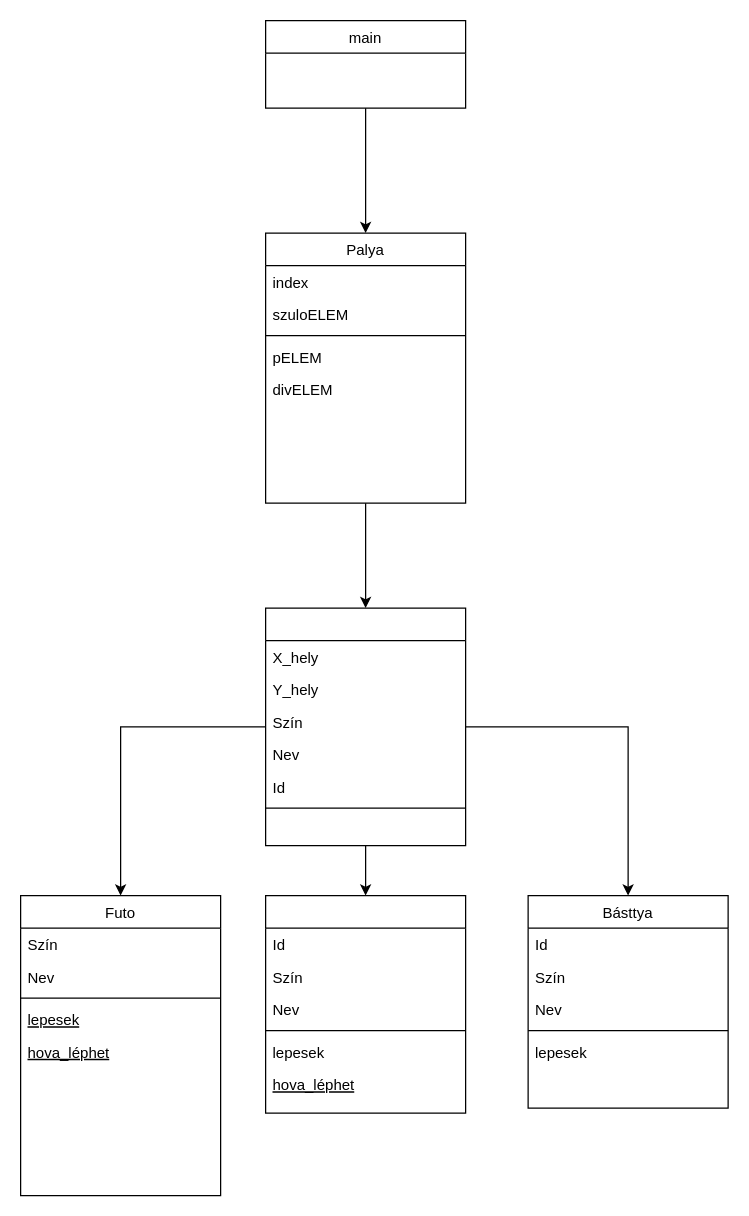
This 749x1216 diagram has some shape labels left out. The shapes that lost their labels are listed below. From the top down, each one's box as (x1, y1, x2, y2) in pixels, then its label:
(264, 607, 466, 846): Bábu
(264, 894, 466, 1113): Paraszt
